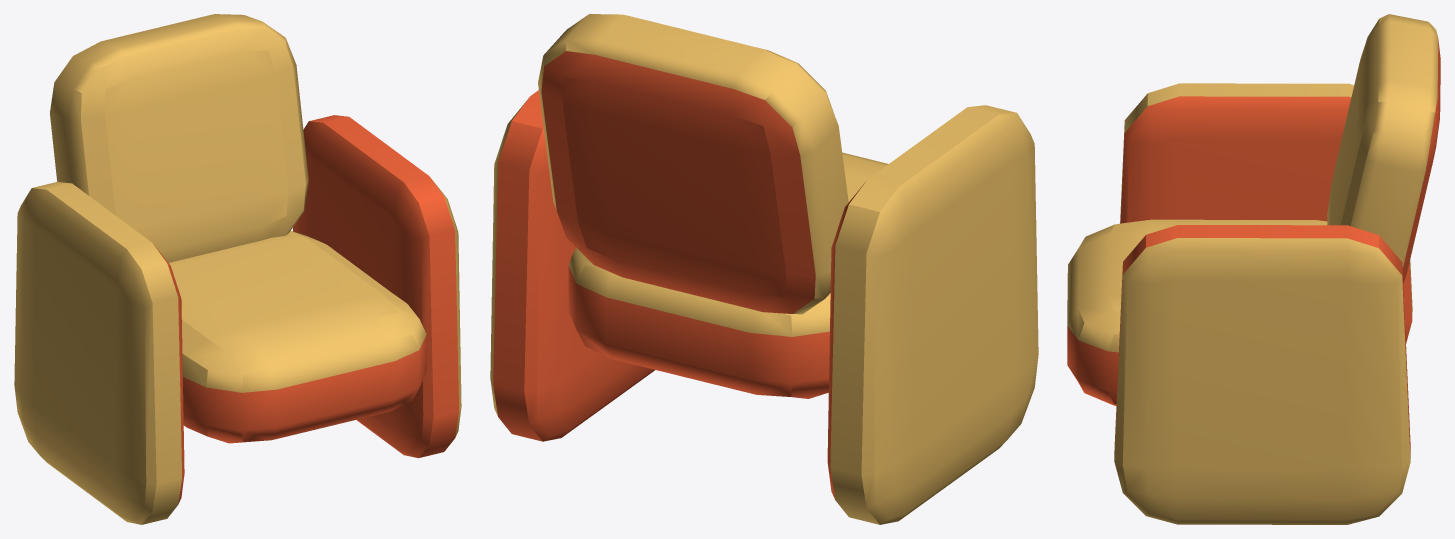
File: SM_Y_03_Chair.fbx
3 views of the same model, side by side, from view 1: azimuth 30°, elevation 25°; view 2: azimuth 150°, elevation 25°; view 3: azimuth 270°, elevation 25° (orthographic). The views are drawn at different scales.
Visible parts, largest first — view 1: SM_Y_03_Chair; view 2: SM_Y_03_Chair; view 3: SM_Y_03_Chair.
Part boxes in pixels (bbox=[...]): SM_Y_03_Chair: bbox=[14, 14, 461, 524]; SM_Y_03_Chair: bbox=[490, 14, 1038, 524]; SM_Y_03_Chair: bbox=[1067, 14, 1440, 524].
Size of the model in its own units: 107 by 118 by 101.
